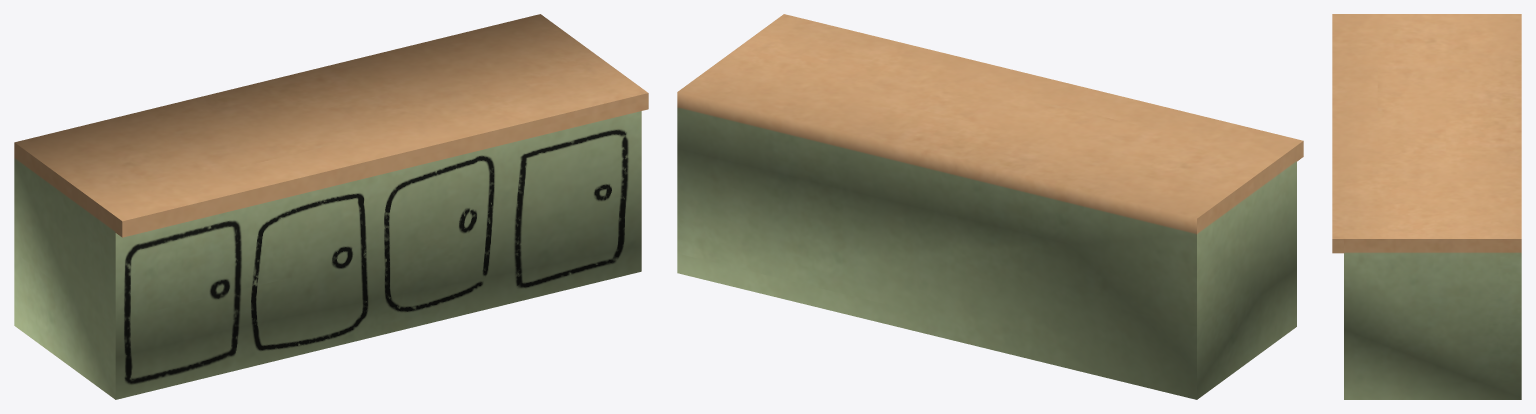
The model's file is counter.fbx.
3 views of the same model, side by side, from view 1: azimuth 30°, elevation 25°; view 2: azimuth 150°, elevation 25°; view 3: azimuth 270°, elevation 25° (orthographic). The views are drawn at different scales.
Visible parts, largest first — view 1: counter; view 2: counter; view 3: counter.
Part boxes in pixels (x1=…): counter: x1=14, y1=14, x2=648, y2=399; counter: x1=677, y1=14, x2=1303, y2=399; counter: x1=1332, y1=14, x2=1521, y2=399.
Size of the model in its own units: 600 by 200 by 213.
